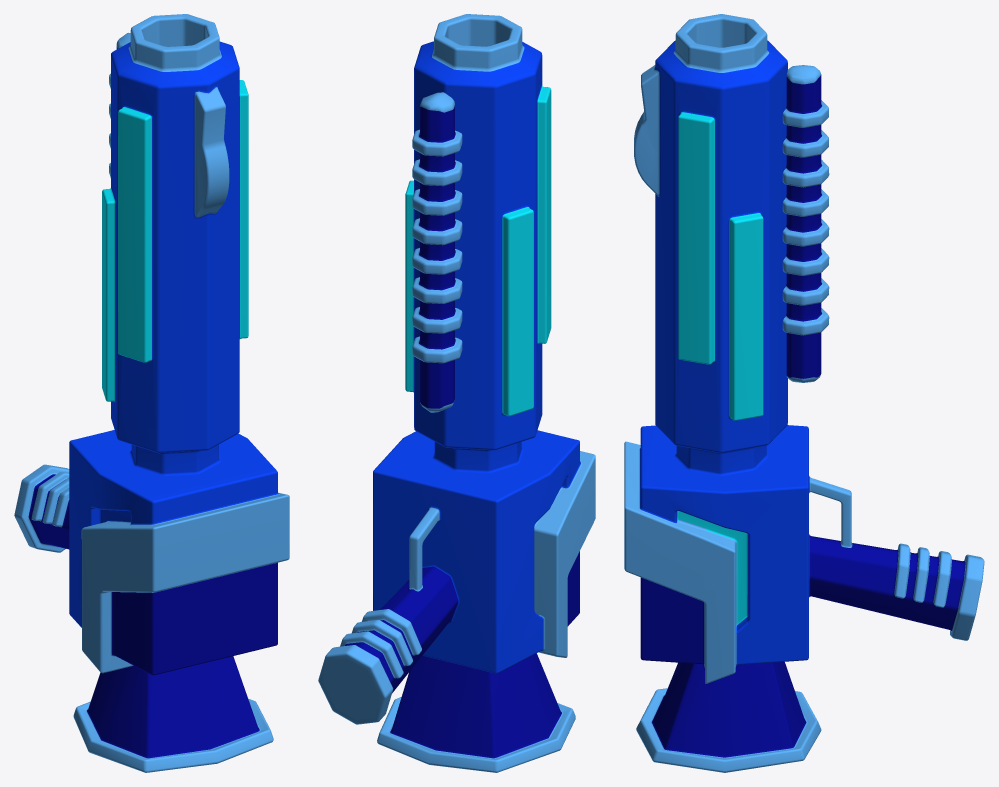
File: gun.fbx
3 renders of one model, left to right at view 1: azimuth 30°, elevation 25°; view 2: azimuth 150°, elevation 25°; view 3: azimuth 270°, elevation 25°, orthographic.
Parts seen in each view (by area): view 1: Gun; view 2: Gun; view 3: Gun.
Boxes of the visible parts, x1=… form: Gun: x1=14, y1=14, x2=289, y2=772; Gun: x1=318, y1=14, x2=595, y2=772; Gun: x1=624, y1=14, x2=984, y2=772.
Bounding box in the file's own units: 368 × 1436 × 668.
1 material, 1 textured.
